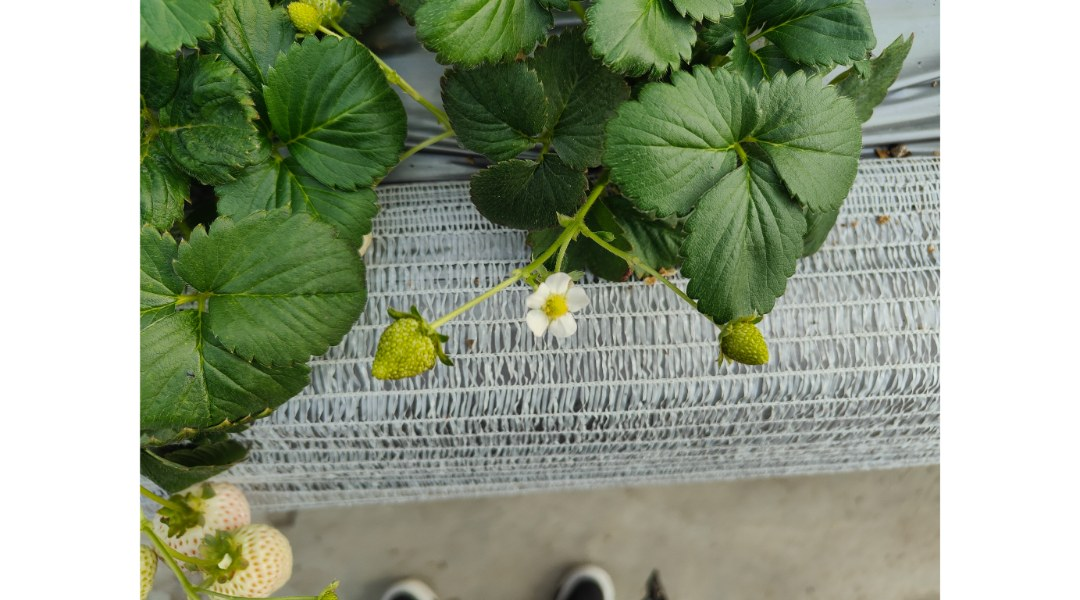berry: (158, 467, 260, 554), (357, 308, 455, 383), (206, 527, 302, 598), (710, 315, 781, 371)
flower: (525, 265, 591, 346)
strain: (624, 252, 729, 331), (431, 276, 512, 331), (591, 229, 632, 274), (584, 176, 608, 218)
